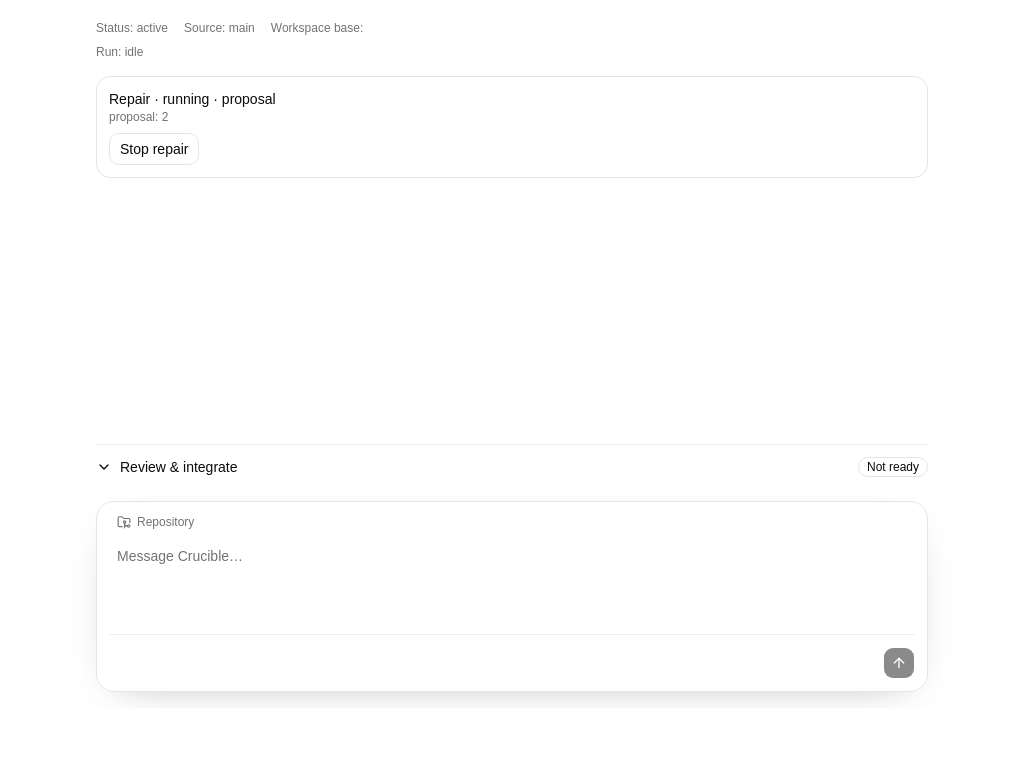
loads repairs on refresh and handles a repair response without a coding run
The width and height of the screenshot is (1024, 768).
Check: the text "proposal: 2" is shown, box left=109, top=110, right=168, bottom=124
Type "/repair" into the text box labelled "Message" at (512,586), box left=109, top=538, right=915, bottom=634
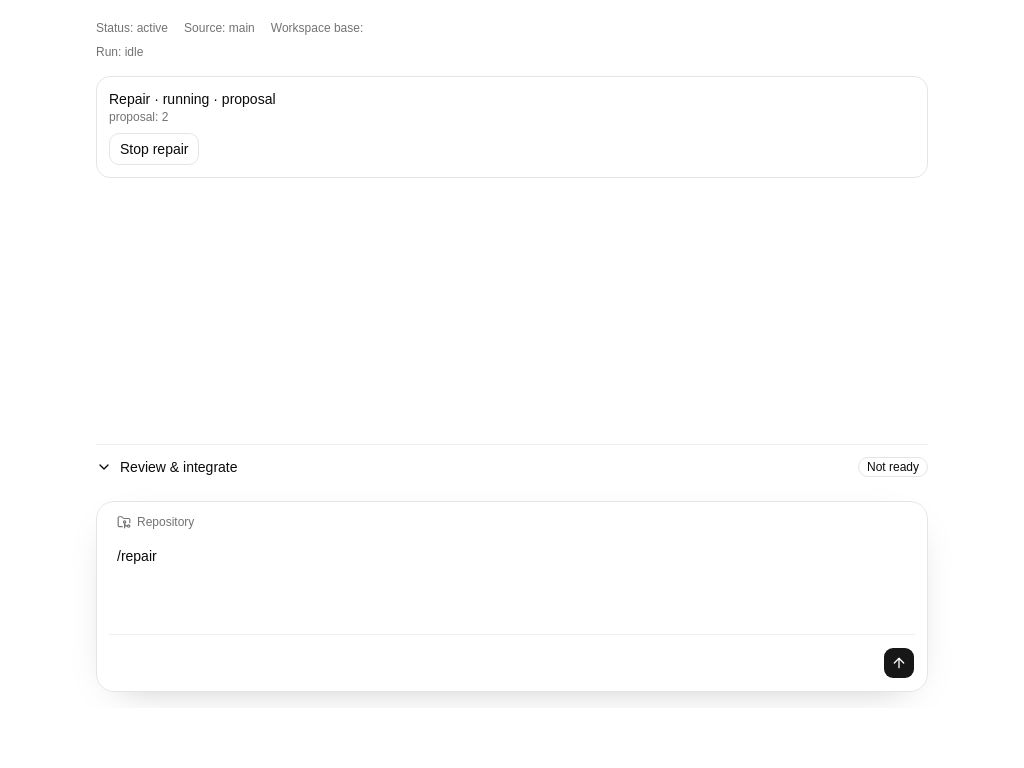
Click the button named "Send" at (899,663), box left=883, top=647, right=915, bottom=679
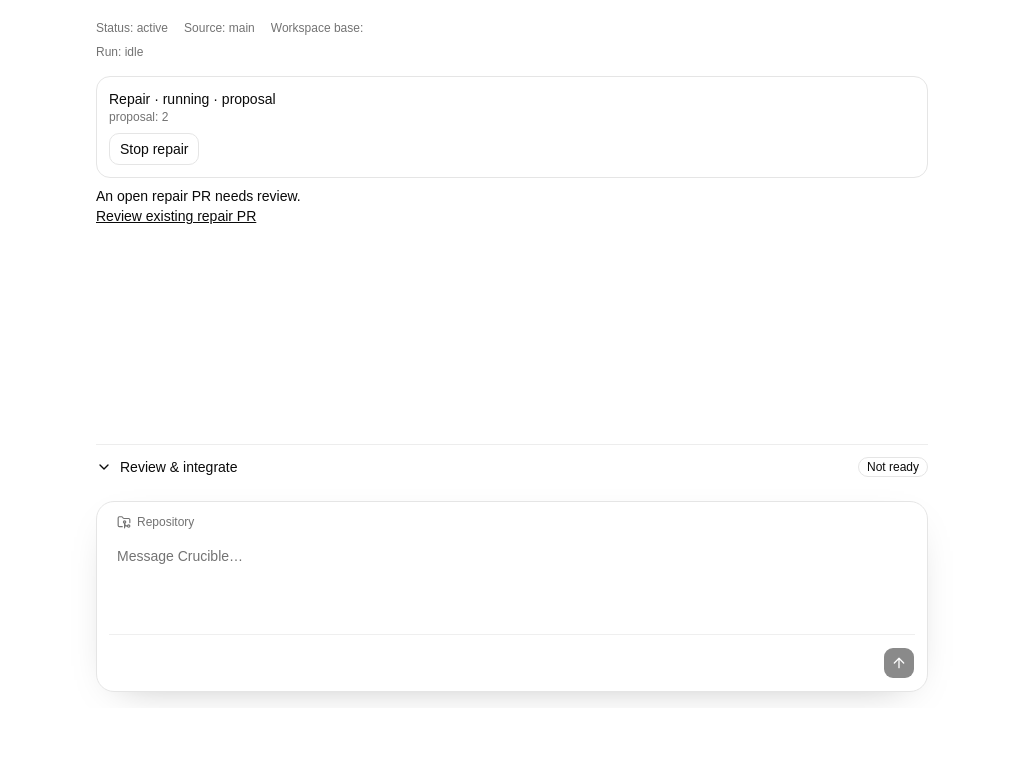
Check: the text "Run: idle" is shown, box left=96, top=45, right=143, bottom=59
Check: the text "An open repair PR needs review." is shown, box left=96, top=188, right=301, bottom=204
